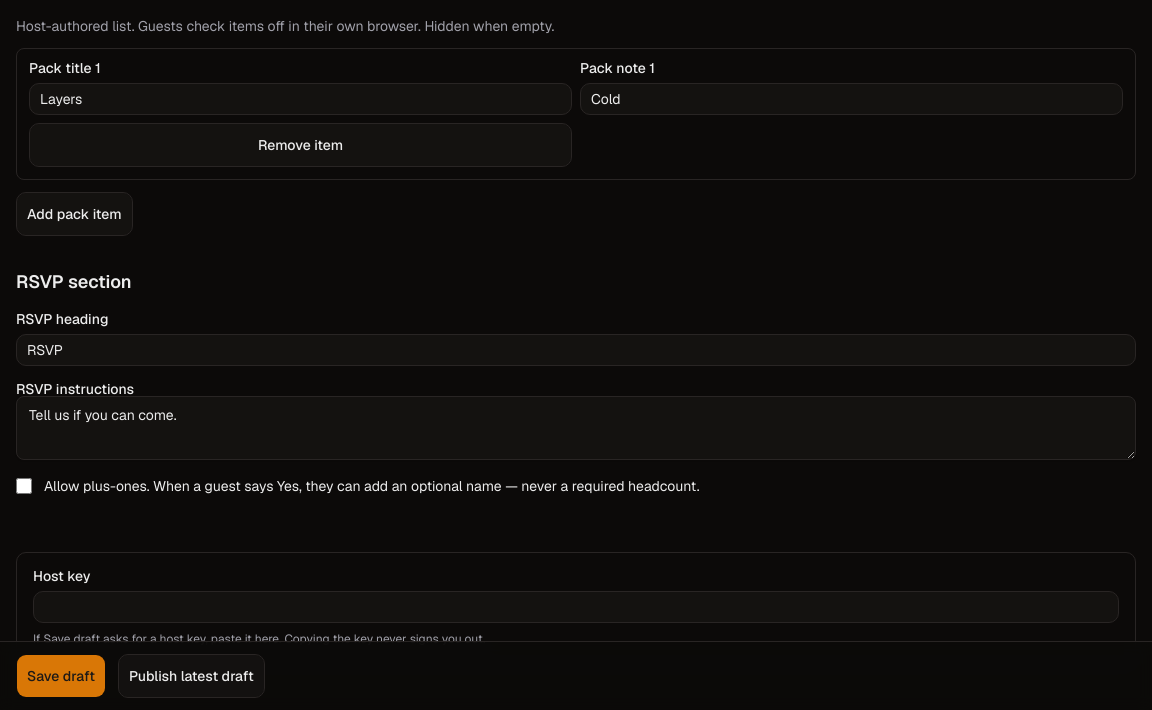
Test: HostEditor draft review safety › invalidates acknowledgement and saved state when RSVP heading changes
The width and height of the screenshot is (1152, 710).
(page scrolled)
Replace the text in the field labelled "RSVP heading" with "Reply now" at point(576, 350), box [16,334,1136,366]
(page scrolled)
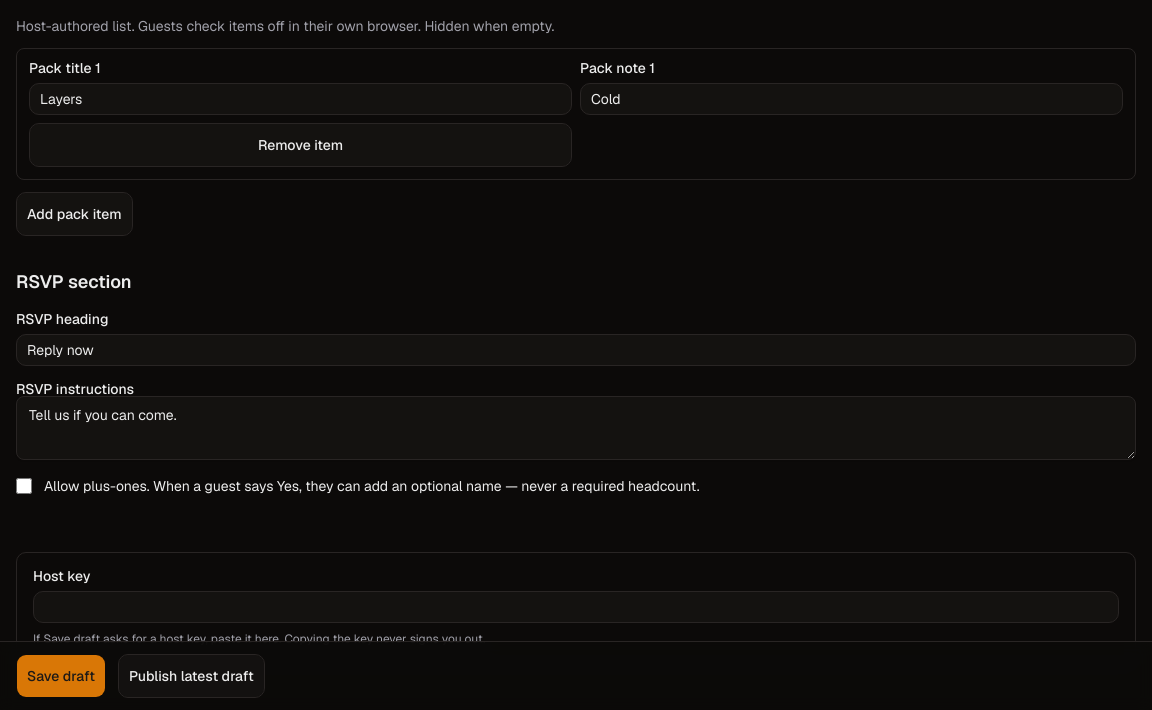
Click the button "Publish latest draft" at point(191, 676), box [118,654,265,698]
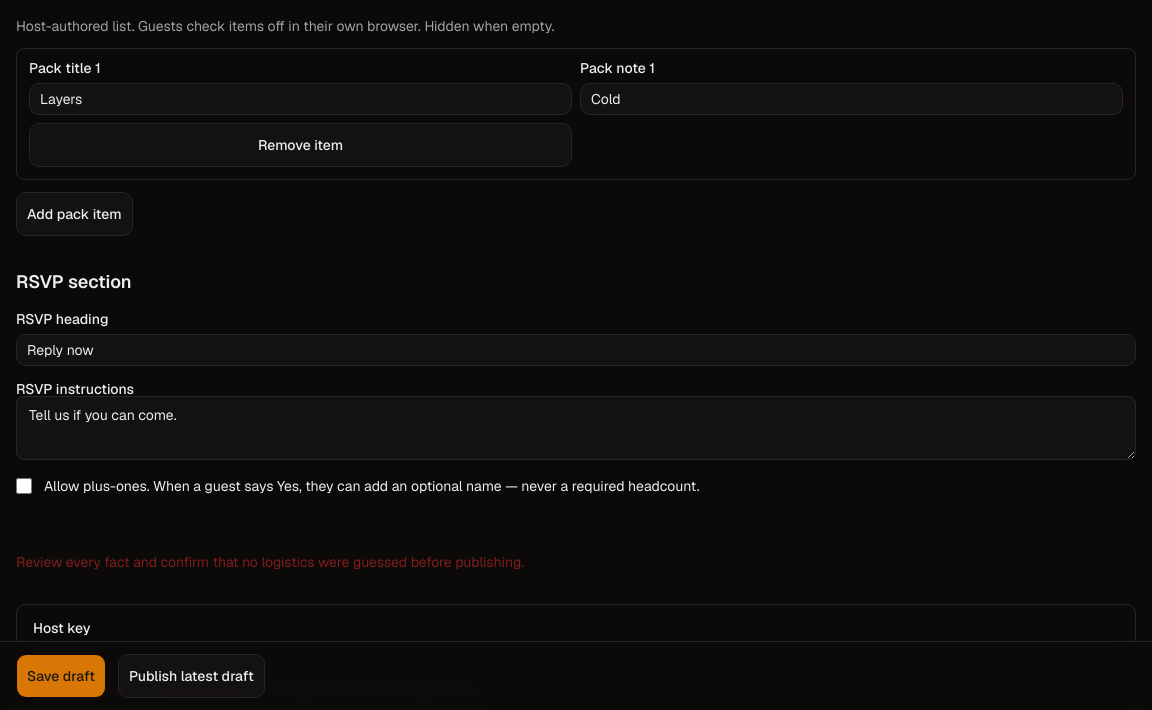
Now the message shows "Review every fact", box [16,553,524,571]
